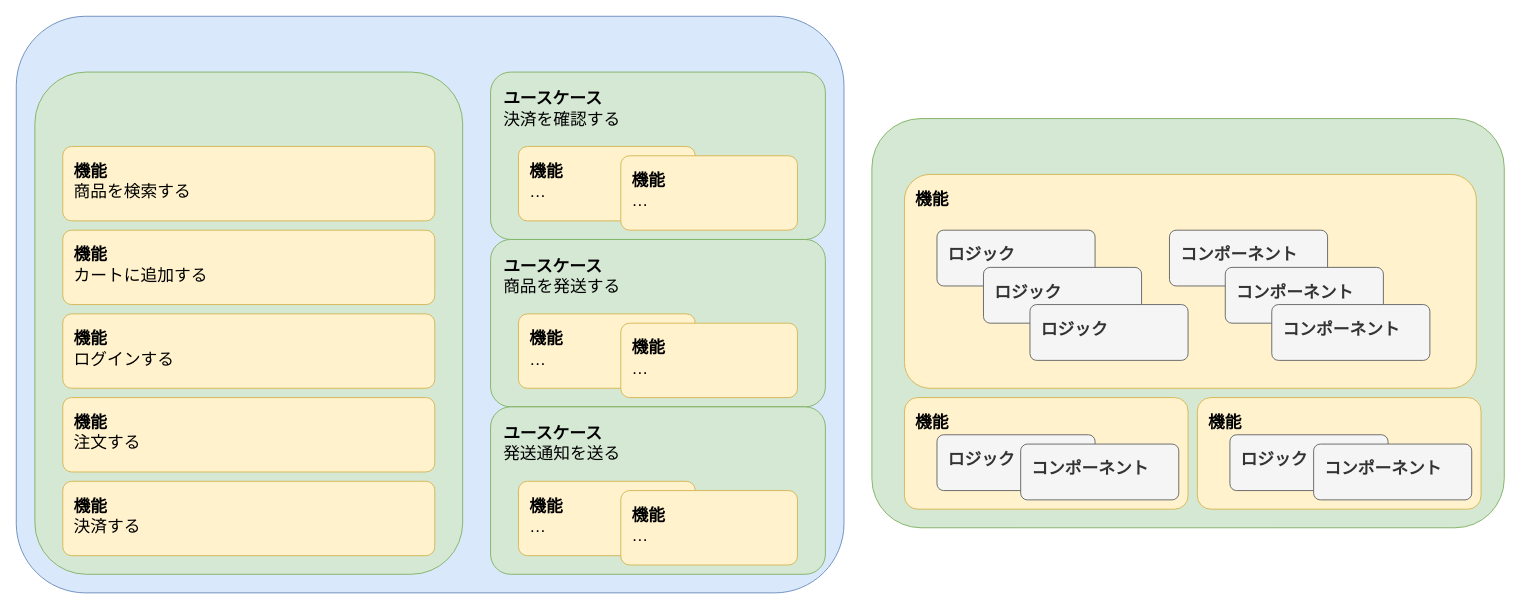
The diagram is 1521 pixels wide and 609 high, and some of its shapes have lost their labels. Here are the shapes that lost their labels. From the top down, the box of each, then its label:
(34, 71, 463, 574): ユースケース 会員が商品を購入する
(15, 15, 844, 593): 業務シナリオ
(871, 118, 1504, 528): ユースケース
